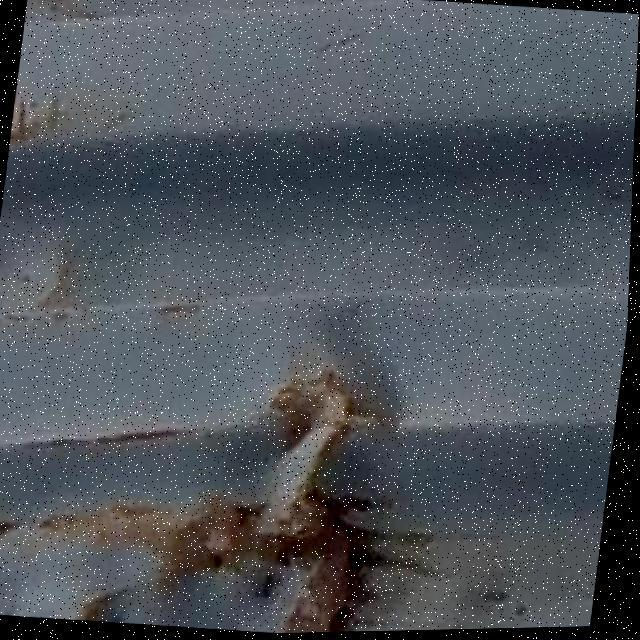rust: (72, 264, 426, 640)
